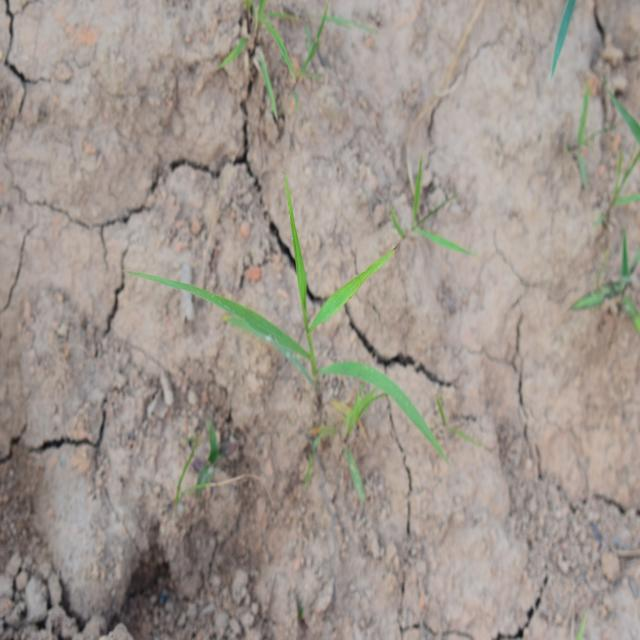green_foxtail: (179, 217, 429, 428)
